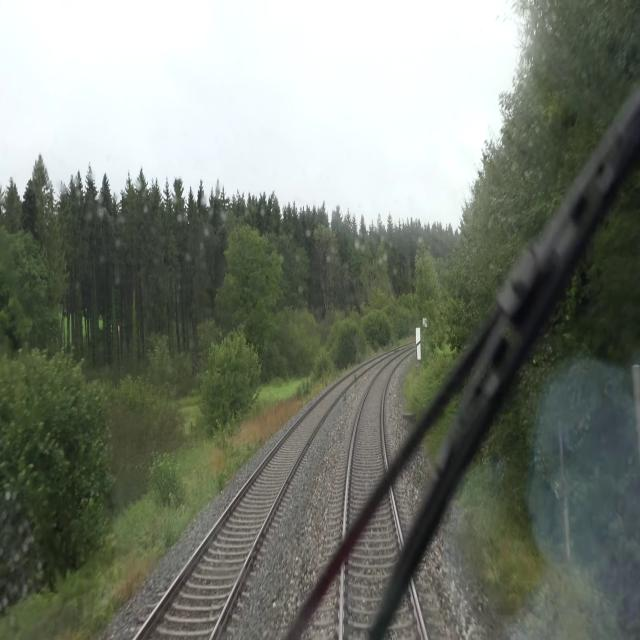rail-track: (139, 370, 360, 639), (347, 359, 398, 536), (343, 500, 400, 639), (380, 584, 424, 639)
